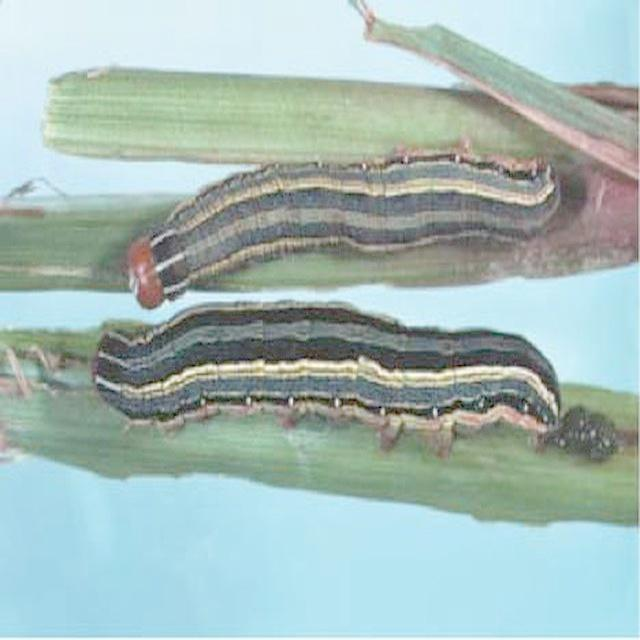gusano_cogollero: (89, 296, 562, 456)
